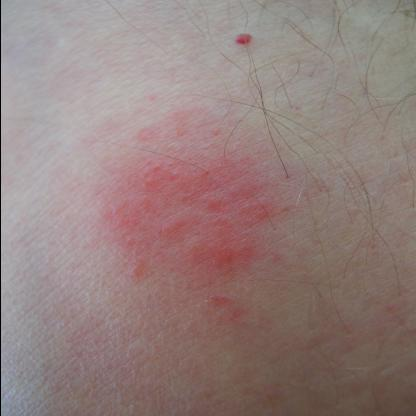Bed Bug: (83, 95, 309, 327), (230, 29, 256, 48)
